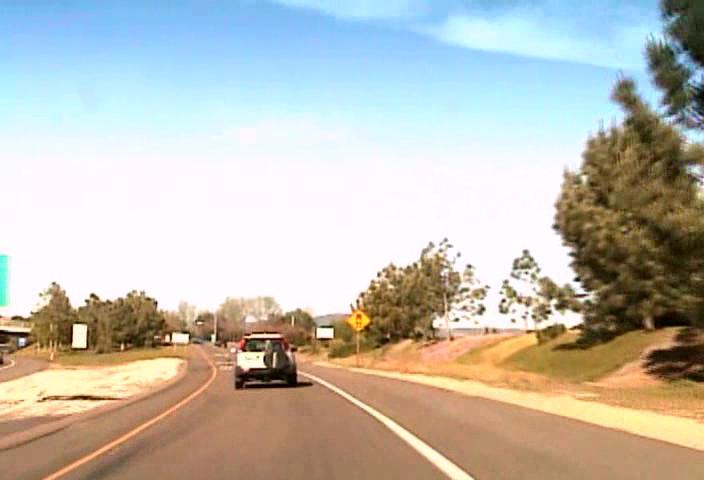signalAhead: (346, 309, 370, 331)
